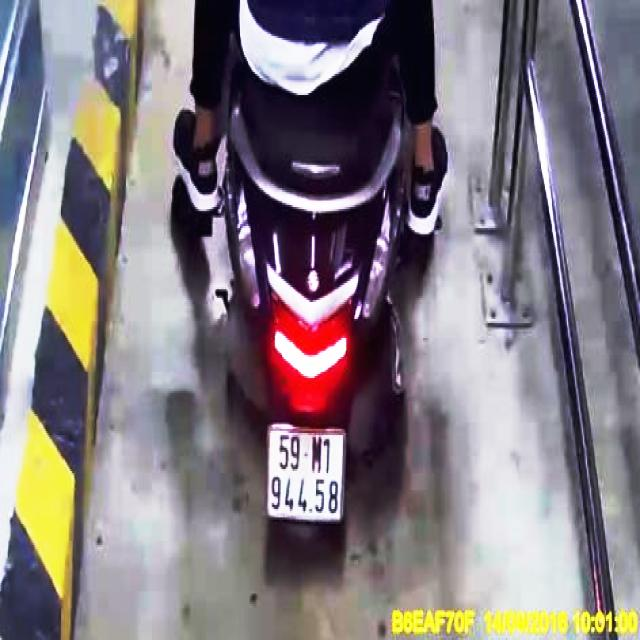license_plate: (267, 427, 348, 524)
